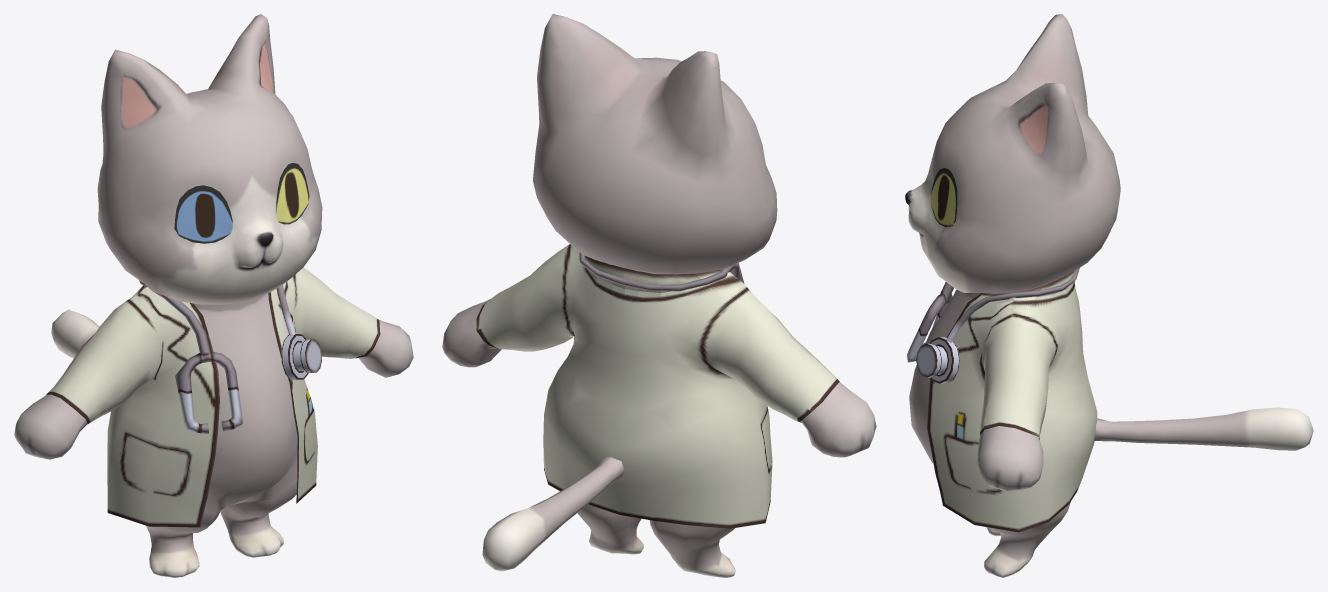
Rendered from Doctor.fbx.
3 renders of one model, left to right at view 1: azimuth 30°, elevation 25°; view 2: azimuth 150°, elevation 25°; view 3: azimuth 270°, elevation 25°, orthographic. The views are drawn at different scales.
Parts seen in each view (by area): view 1: Doctor, Doctor_Eye; view 2: Doctor; view 3: Doctor, Doctor_Eye.
Part boxes in pixels (x1=…): Doctor: x1=14, y1=14, x2=413, y2=577; Doctor_Eye: x1=174, y1=163, x2=309, y2=243; Doctor: x1=442, y1=14, x2=876, y2=577; Doctor: x1=905, y1=14, x2=1313, y2=577; Doctor_Eye: x1=930, y1=168, x2=957, y2=226.
Bounding box in the file's own units: 176 × 219 × 162.
Materials: 2 (2 with a texture image).
